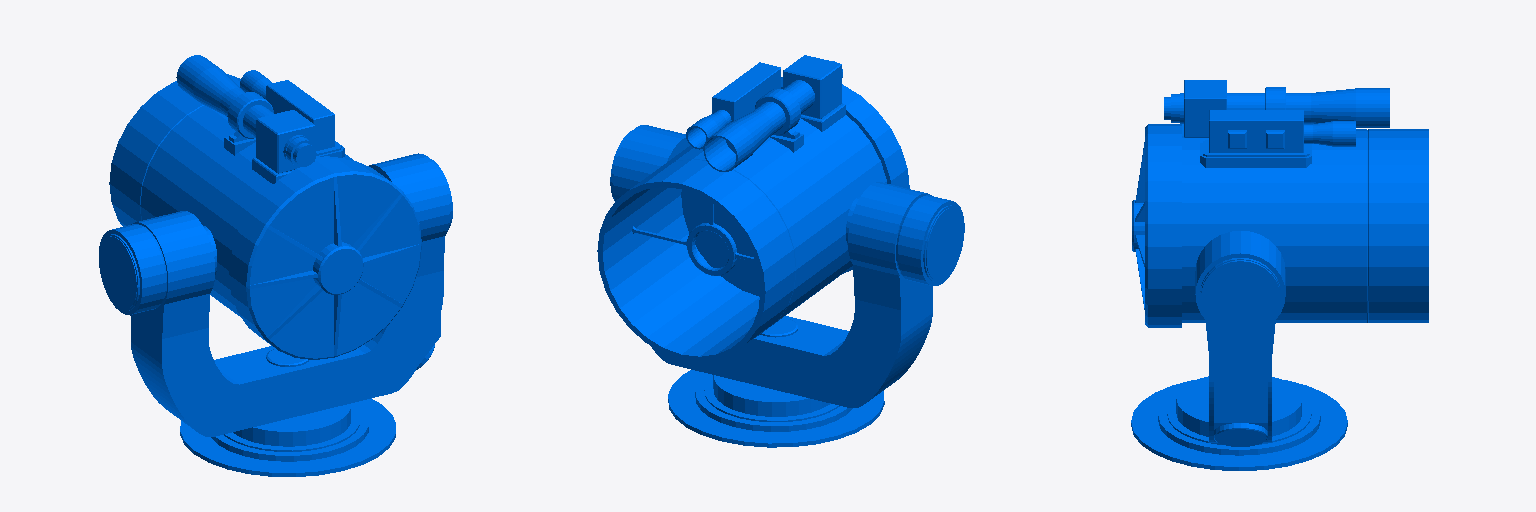
File: DarkmatterSingleCylinder.obj
3 views of the same model, side by side, from view 1: azimuth 30°, elevation 25°; view 2: azimuth 150°, elevation 25°; view 3: azimuth 270°, elevation 25° (orthographic).
Visible parts, largest first — view 1: Circle507, Circle508, Circle510, Circle511, Rectangle669, Rectangle670, Circle512; view 2: Circle507, Circle508, Circle510, Circle511, Rectangle669, Rectangle670, Circle522, Circle512; view 3: Circle507, Circle508, Circle510, Rectangle670, Circle511, Rectangle669, Circle512, Circle513.
Boxes of the visible parts, x1,y1,x2,y2 form: Circle507: [109, 74, 421, 359]; Circle508: [99, 153, 452, 436]; Circle510: [180, 349, 395, 476]; Circle511: [176, 55, 316, 166]; Rectangle669: [252, 110, 314, 183]; Rectangle670: [266, 80, 344, 157]; Circle512: [240, 70, 271, 98]; Circle507: [597, 77, 909, 361]; Circle508: [610, 125, 964, 407]; Circle510: [668, 318, 884, 447]; Circle511: [703, 60, 842, 171]; Rectangle669: [783, 55, 845, 131]; Rectangle670: [712, 62, 780, 121]; Circle522: [687, 223, 736, 275]; Circle512: [686, 110, 731, 149]; Circle507: [1132, 124, 1428, 327]; Circle508: [1195, 231, 1285, 442]; Circle510: [1131, 376, 1347, 470]; Rectangle670: [1200, 110, 1311, 167]; Circle511: [1164, 87, 1389, 127]; Rectangle669: [1182, 80, 1226, 137]; Circle512: [1304, 121, 1355, 146]; Circle513: [1214, 423, 1267, 446].
Bounding box in the file's own units: 40.26 × 39.95 × 32.97.